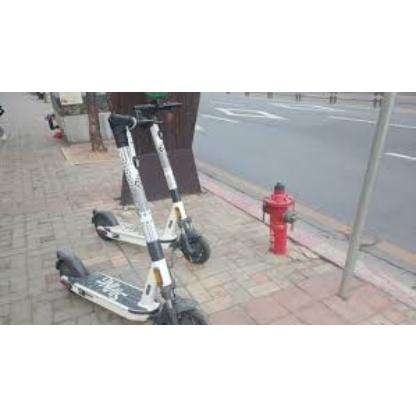bike: (55, 101, 211, 325), (0, 100, 6, 146)
traffic cone: (262, 182, 297, 255)
